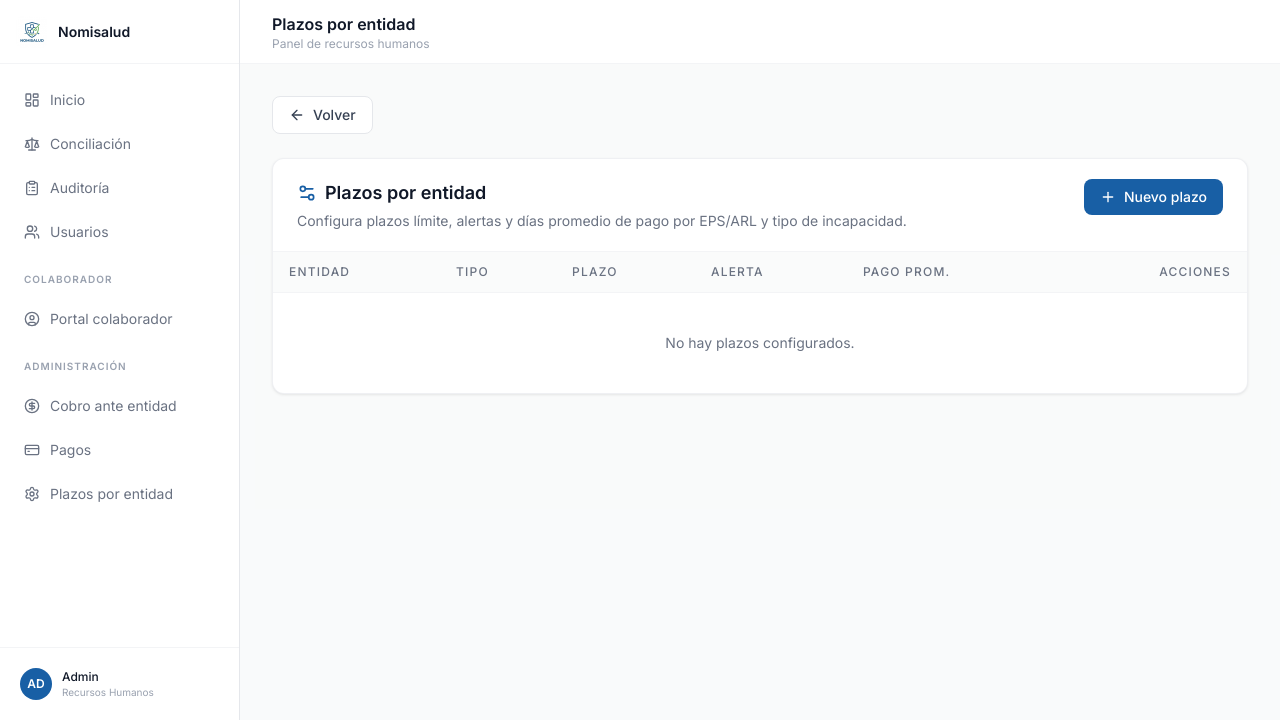
Test case: PlazosEntidadAdminPage › abre modal de creación
Click the button "Nuevo plazo" at (1153, 197), box 1084,179 -> 1223,215
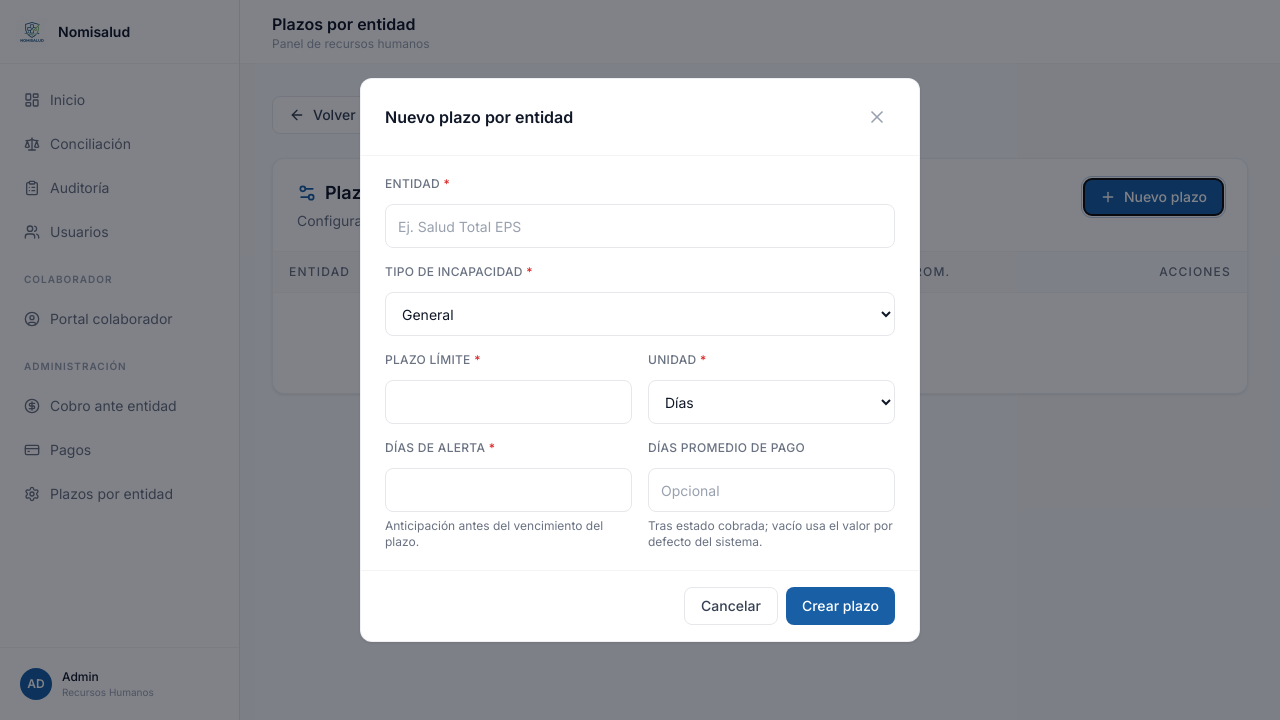
Result: the heading "Nuevo plazo por entidad" is shown at 385,105 -> 573,129
